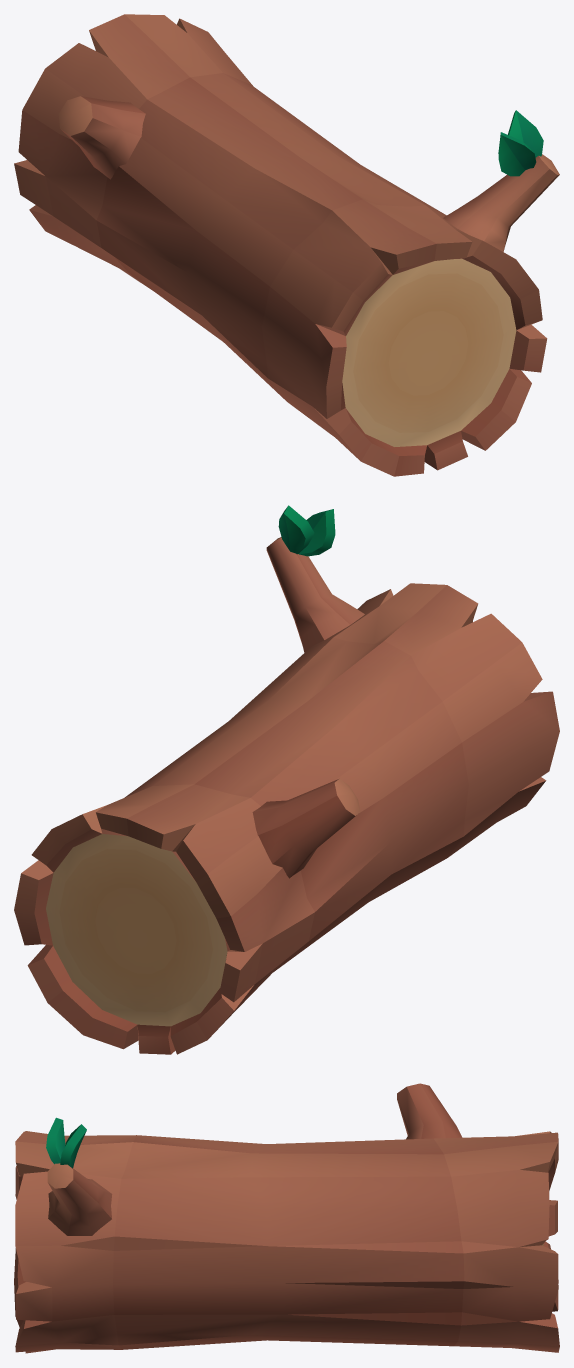
File: prop_log_a.glb
The picture shows the model from 3 angles, top to bottom: view 1: azimuth 30°, elevation 25°; view 2: azimuth 150°, elevation 25°; view 3: azimuth 270°, elevation 25°; orthographic projection. The views are drawn at different scales.
Parts seen in each view (by area): view 1: Wood_Log_A; view 2: Wood_Log_A; view 3: Wood_Log_A.
Boxes of the visible parts, box(x1,y1,x2,y2) form: Wood_Log_A: box(14, 14, 559, 476); Wood_Log_A: box(14, 505, 559, 1054); Wood_Log_A: box(14, 1083, 559, 1353).
Bounding box in the file's own units: 0.7214 × 0.7334 × 1.35.
1 material, 1 textured.
